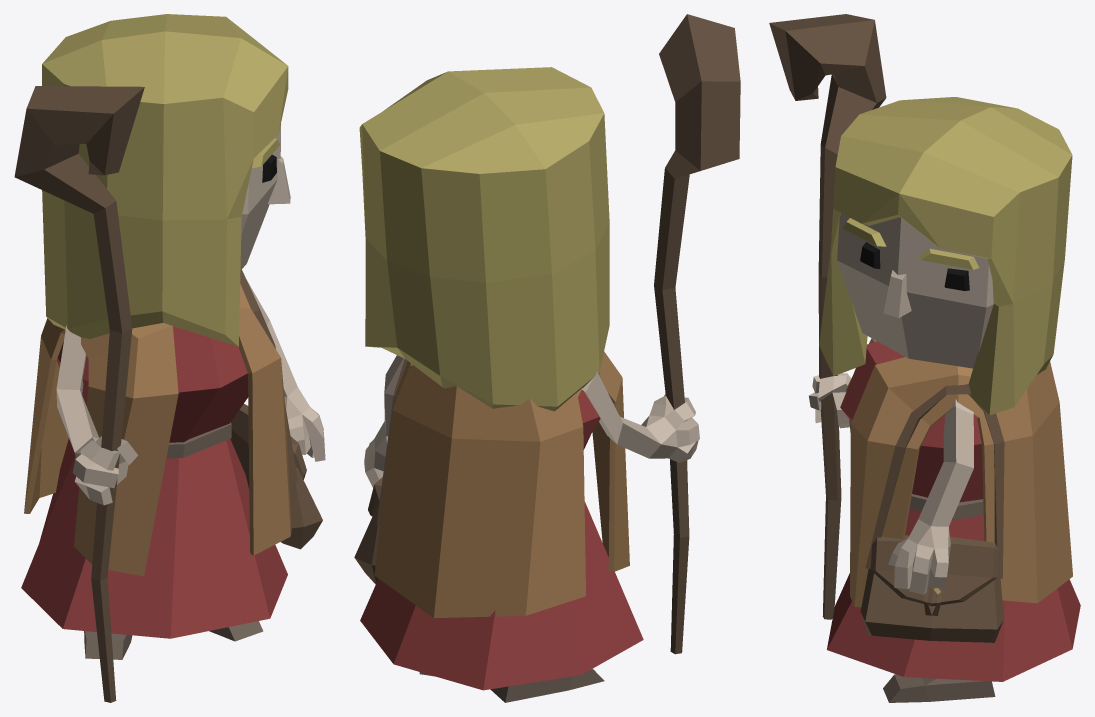
File: femme-4.glb
3 views of the same model, side by side, from view 1: azimuth 30°, elevation 25°; view 2: azimuth 150°, elevation 25°; view 3: azimuth 270°, elevation 25° (orthographic). The views are drawn at different scales.
Parts seen in each view (by area): view 1: Farmer_GEO_CharTxt_MAT_0; view 2: Farmer_GEO_CharTxt_MAT_0; view 3: Farmer_GEO_CharTxt_MAT_0.
Part boxes in pixels (bbox=[...]): Farmer_GEO_CharTxt_MAT_0: bbox=[14, 14, 325, 702]; Farmer_GEO_CharTxt_MAT_0: bbox=[354, 14, 740, 702]; Farmer_GEO_CharTxt_MAT_0: bbox=[769, 14, 1080, 702].
Bounding box in the file's own units: 0.8222 × 1.44 × 0.6888.
1 material, 1 textured.
